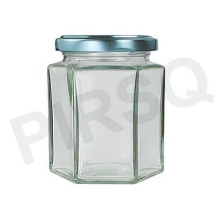bottle: (39, 22, 172, 191)
